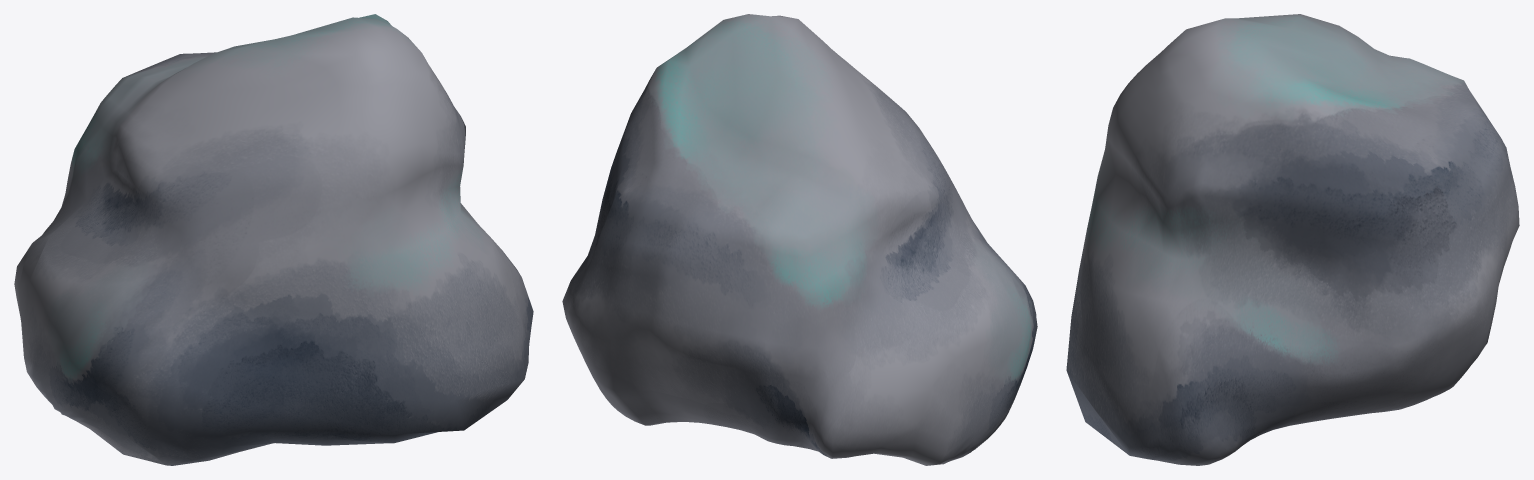
File: rock4.fbx
The picture shows the model from 3 angles, left to right: view 1: azimuth 30°, elevation 25°; view 2: azimuth 150°, elevation 25°; view 3: azimuth 270°, elevation 25°; orthographic projection. The views are drawn at different scales.
Parts seen in each view (by area): view 1: pCube1; view 2: pCube1; view 3: pCube1.
Part boxes in pixels (bbox=[...]): pCube1: bbox=[14, 14, 533, 465]; pCube1: bbox=[562, 14, 1037, 465]; pCube1: bbox=[1066, 14, 1519, 465].
Bounding box in the file's own units: 56.49 × 49.3 × 50.24.
1 material, 1 textured.
